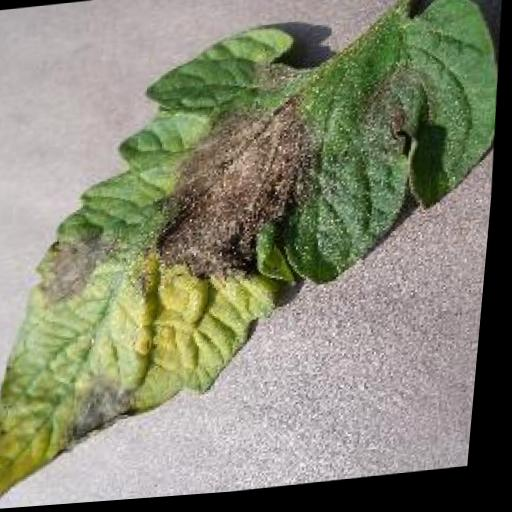Late Blight: (0, 0, 510, 512)
